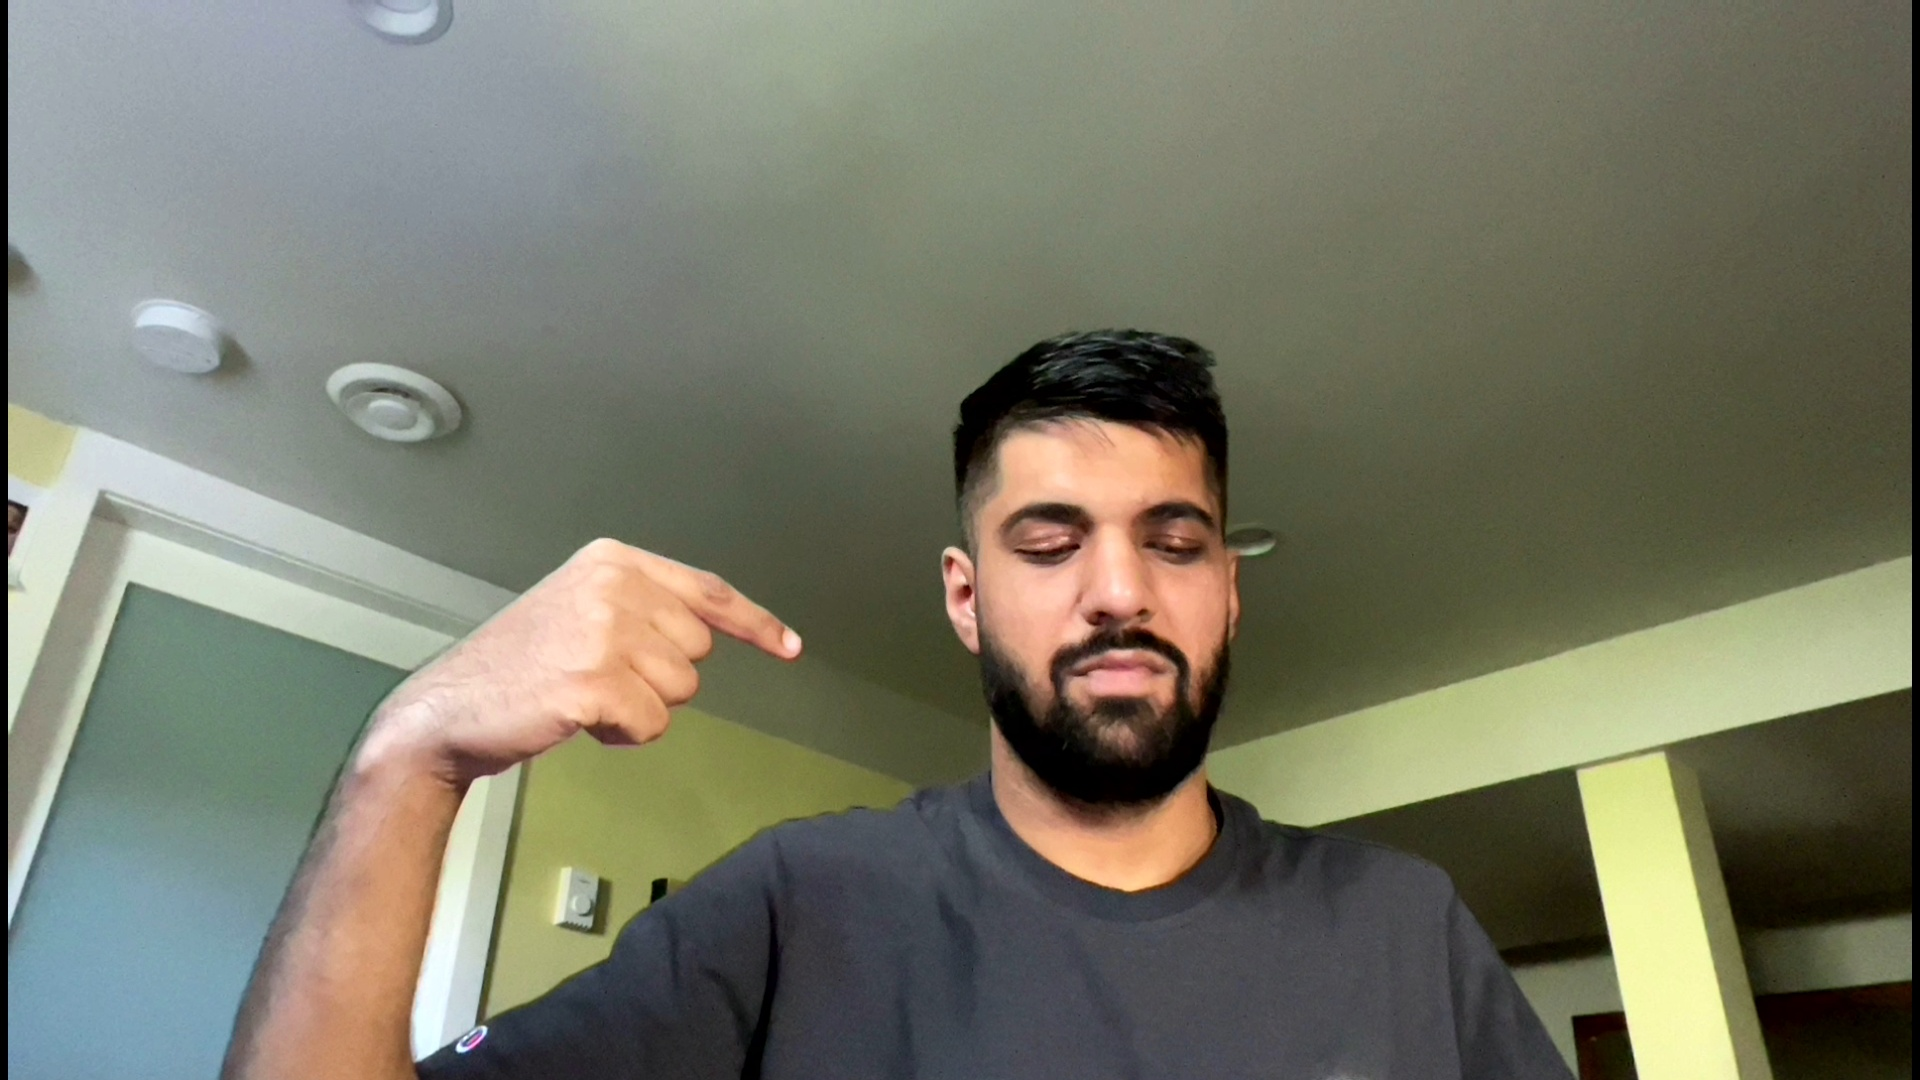Vikrant: (427, 493, 823, 781)
